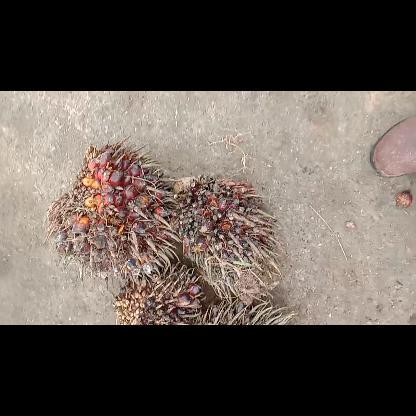TBS abnormal: (174, 174, 280, 298), (114, 266, 204, 324)
TBS masak: (47, 142, 177, 274)
